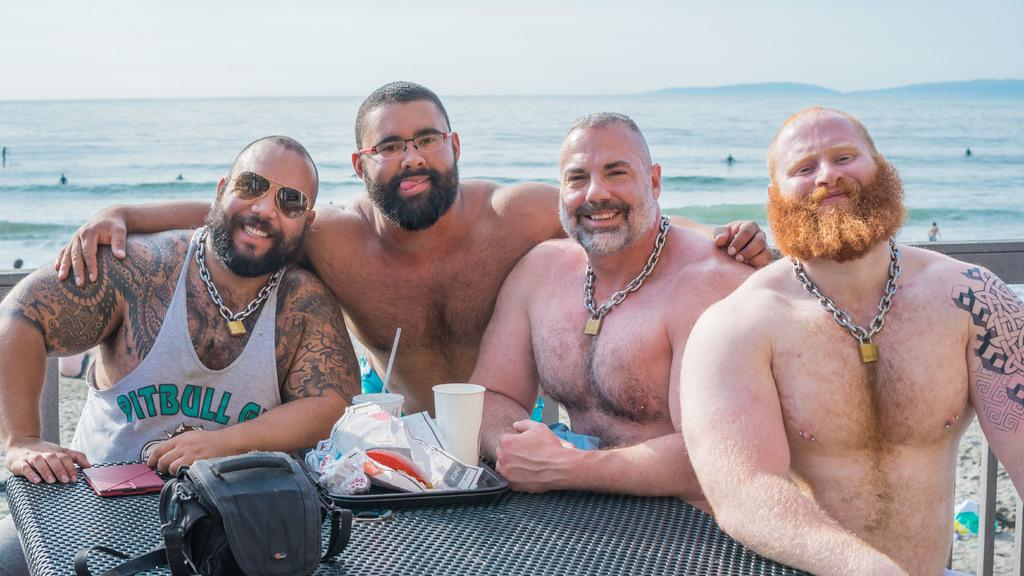Luggage-and-bags: (71, 452, 353, 575)
